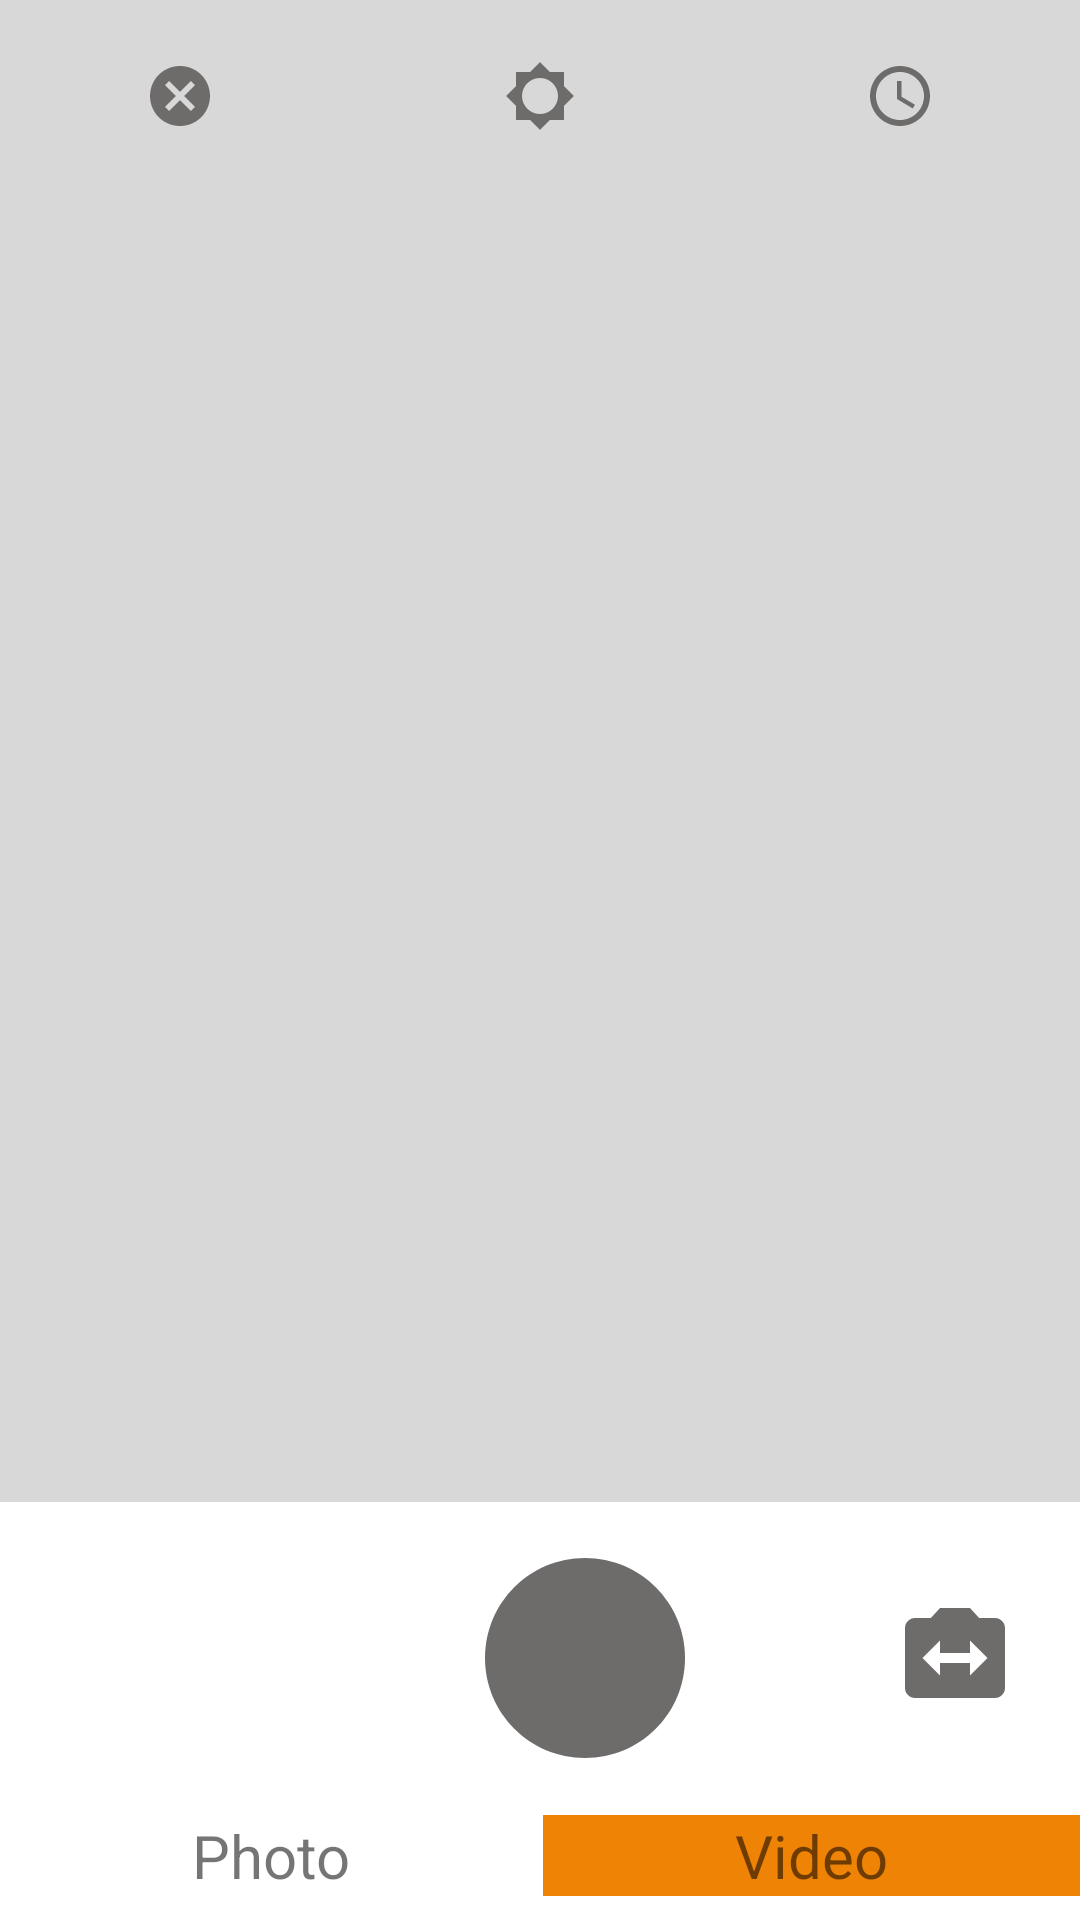

Where to tap for icons on this 1080px×1920px app screen, as (x,y):
access time: (900,96)
brightness: (540,96)
Cancel Icon: (180,96)
Switch Camera Icon: (955,1653)
